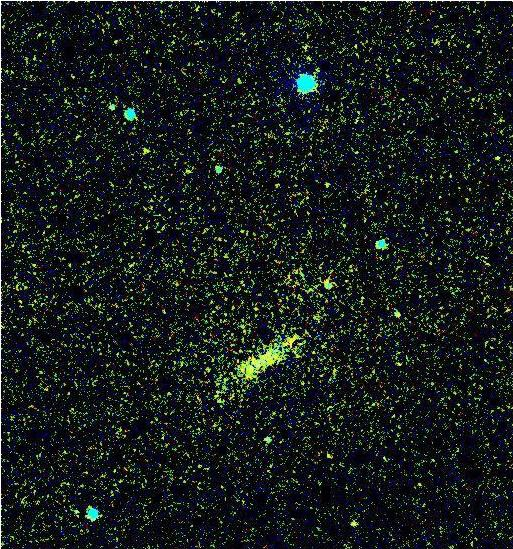star: (339, 509, 369, 539)
